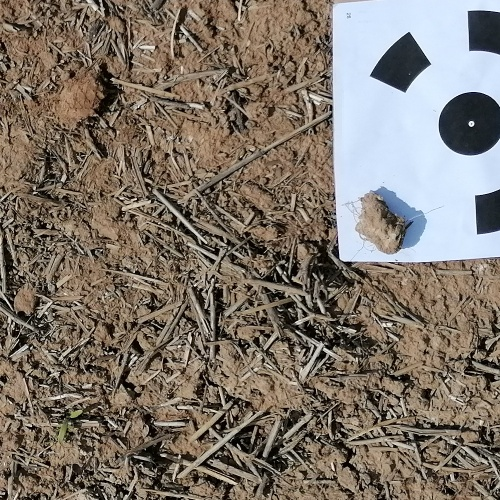beet: (56, 409, 85, 440)
